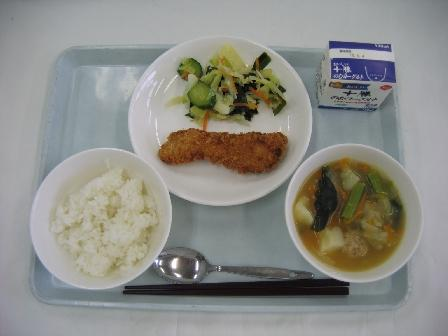Rice: (28, 145, 166, 282)
Salad: (162, 40, 288, 123)
Soups: (288, 144, 420, 271)
cutlet: (147, 107, 296, 189)
